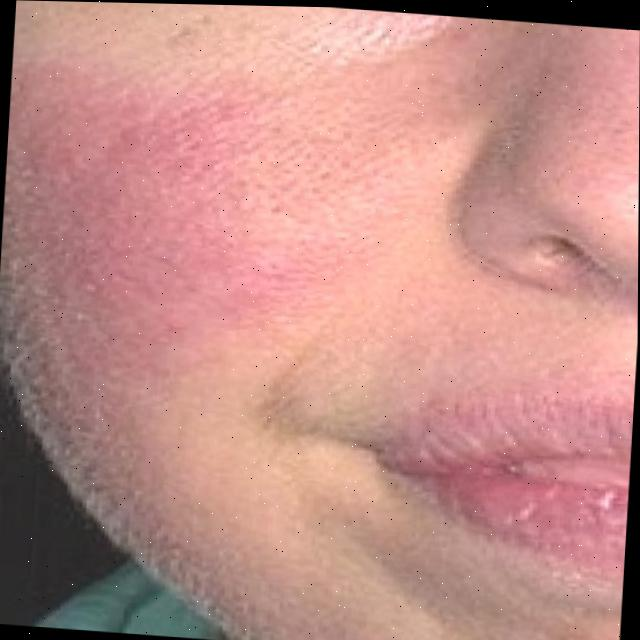Rosacea: (3, 22, 459, 395), (532, 23, 640, 200)
